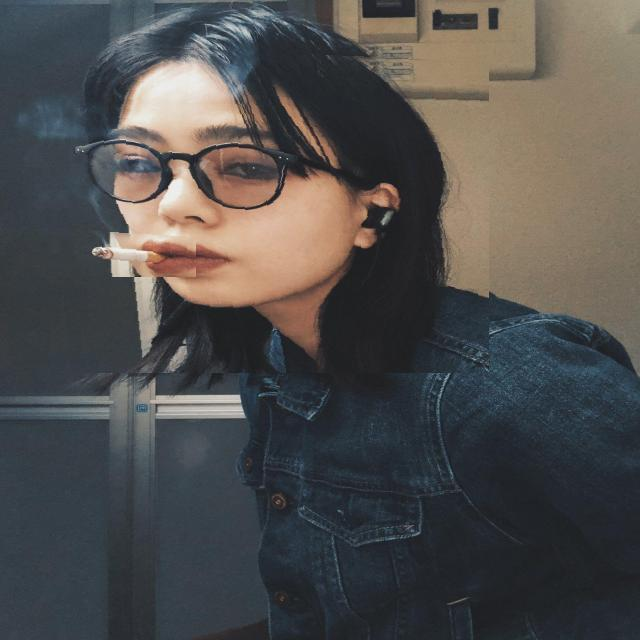cigarette: (76, 230, 196, 277)
